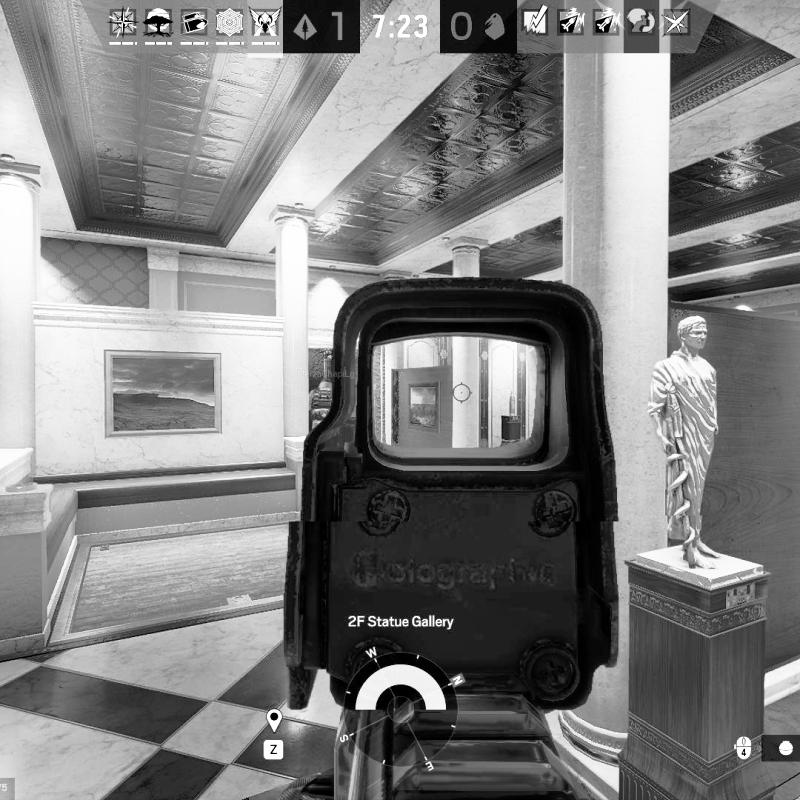Character: (310, 378, 334, 431)
Head: (322, 377, 332, 384)
